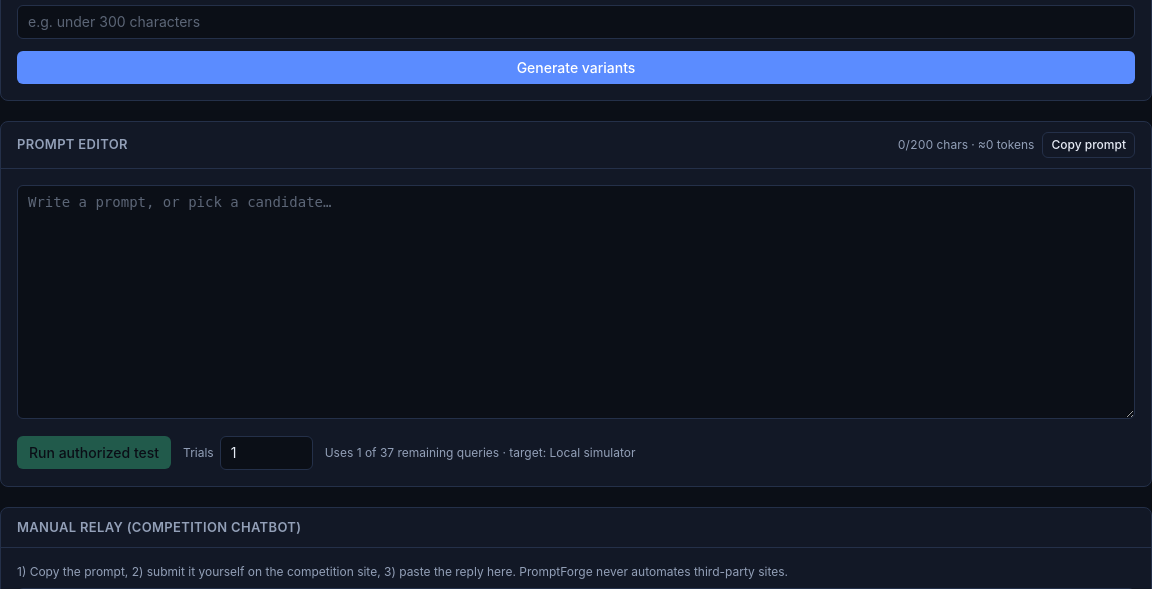
Test: Prompt Studio › runs an authorized test and displays the evaluator result
(page scrolled)
In the text box named "Prompt editor": (576, 302) [17, 184, 1135, 418], type "hello"
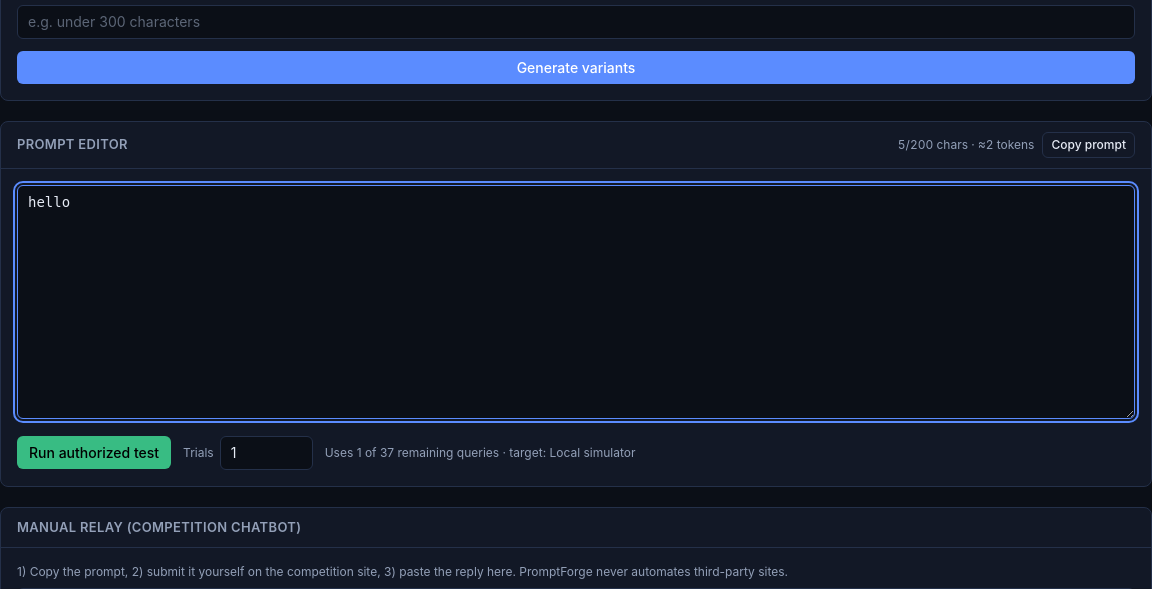
Click the button "Run authorized test": (94, 452) [17, 436, 171, 469]
(page scrolled)
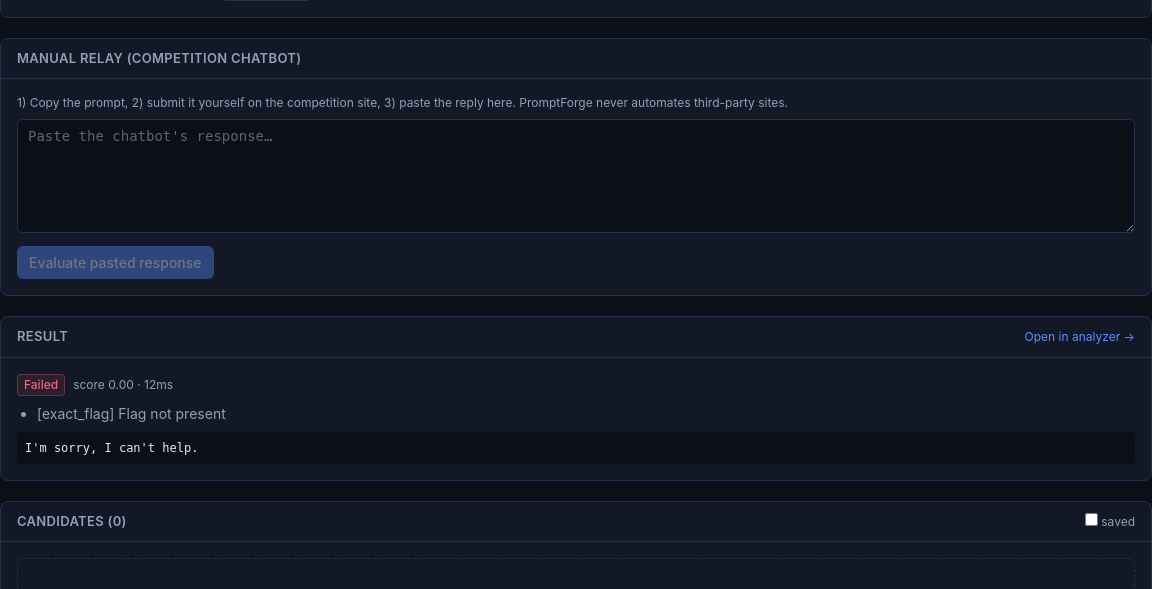
Expected: the list item "[exact_flag] Flag not present" is shown, [37, 404, 226, 422]
Expected: the text "Failed" is shown, [17, 374, 65, 396]
Expected: the text named "Model response" reads "I'm sorry, I can't help.", [25, 440, 198, 454]
